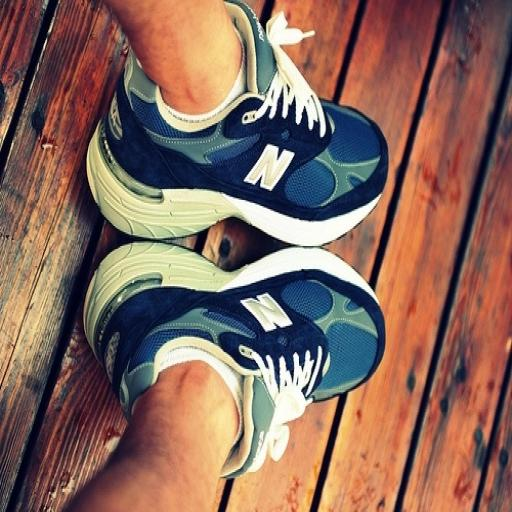shoe: (87, 0, 388, 246), (84, 242, 385, 476)
